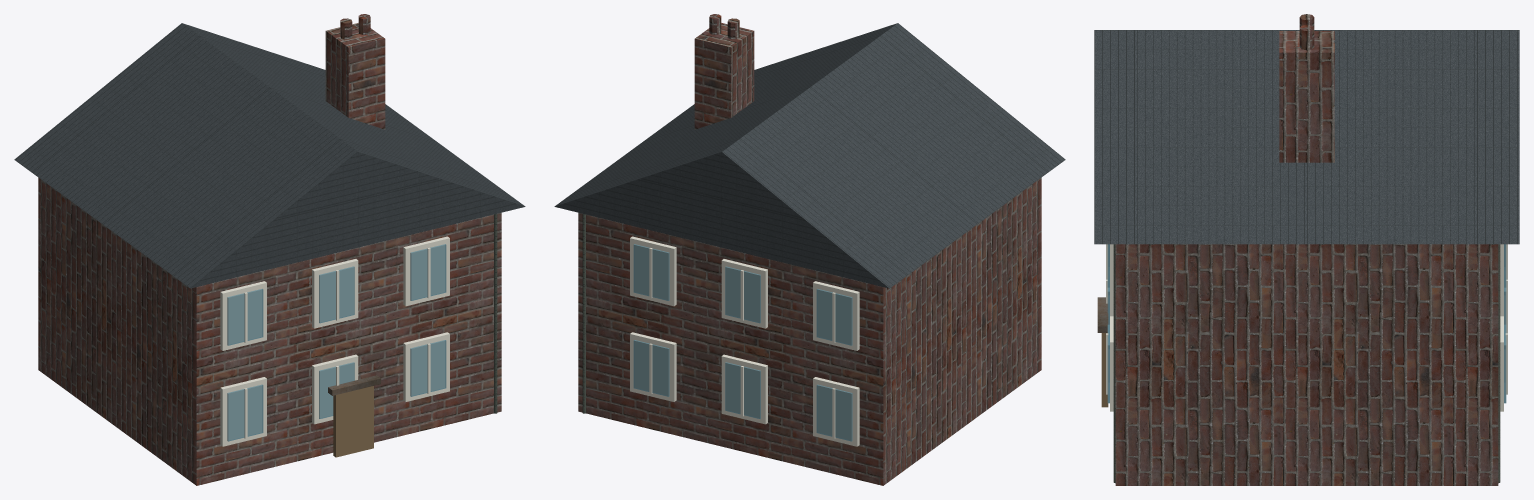
File: britaincottage.gltf
3 renders of one model, left to right at view 1: azimuth 30°, elevation 25°; view 2: azimuth 150°, elevation 25°; view 3: azimuth 270°, elevation 25°, orthographic. The views are drawn at different scales.
Parts seen in each view (by area): view 1: britaincottage; view 2: britaincottage; view 3: britaincottage.
Boxes of the visible parts, x1,y1,x2,y2 form: britaincottage: [14, 14, 525, 485]; britaincottage: [554, 14, 1065, 485]; britaincottage: [1094, 14, 1519, 485].
Size of the model in its own units: 22 by 22 by 20.
7 materials, 4 textured.
